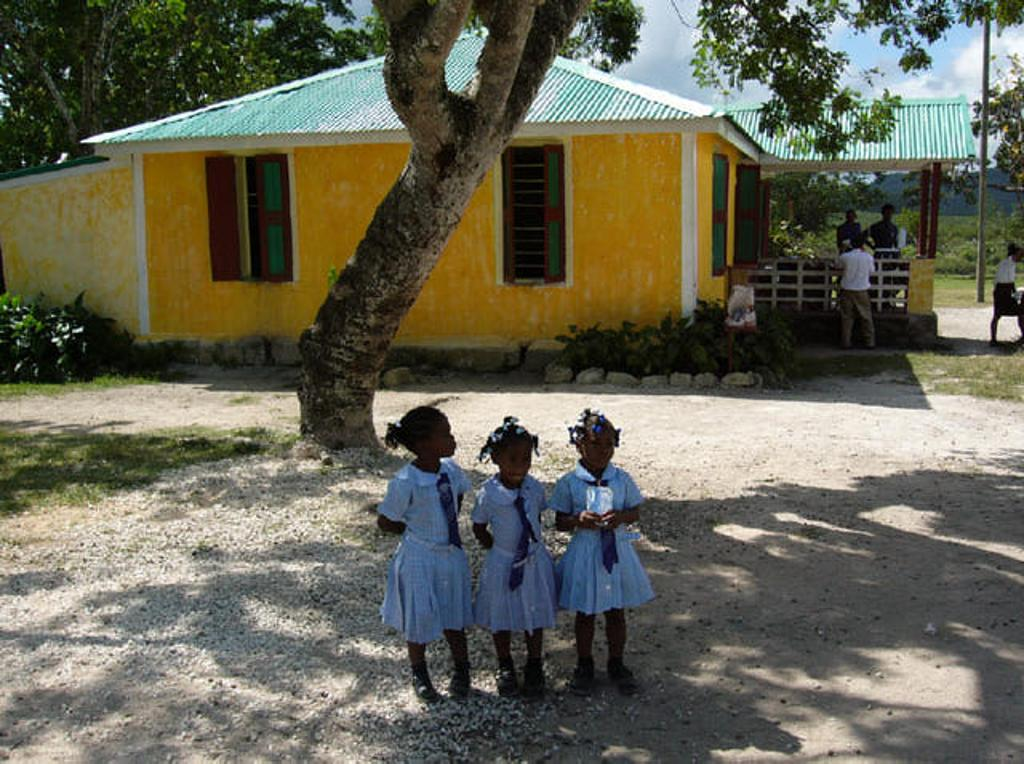face: (583, 427, 613, 468), (502, 442, 530, 481), (431, 419, 455, 455)
